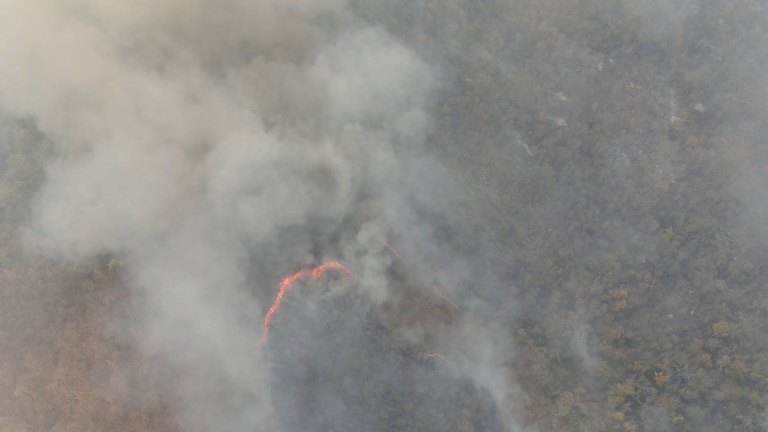fire: (256, 261, 366, 354), (415, 348, 473, 377), (422, 280, 466, 315), (378, 230, 412, 272)
smoke: (24, 41, 290, 415), (236, 29, 455, 270), (465, 326, 527, 432)
